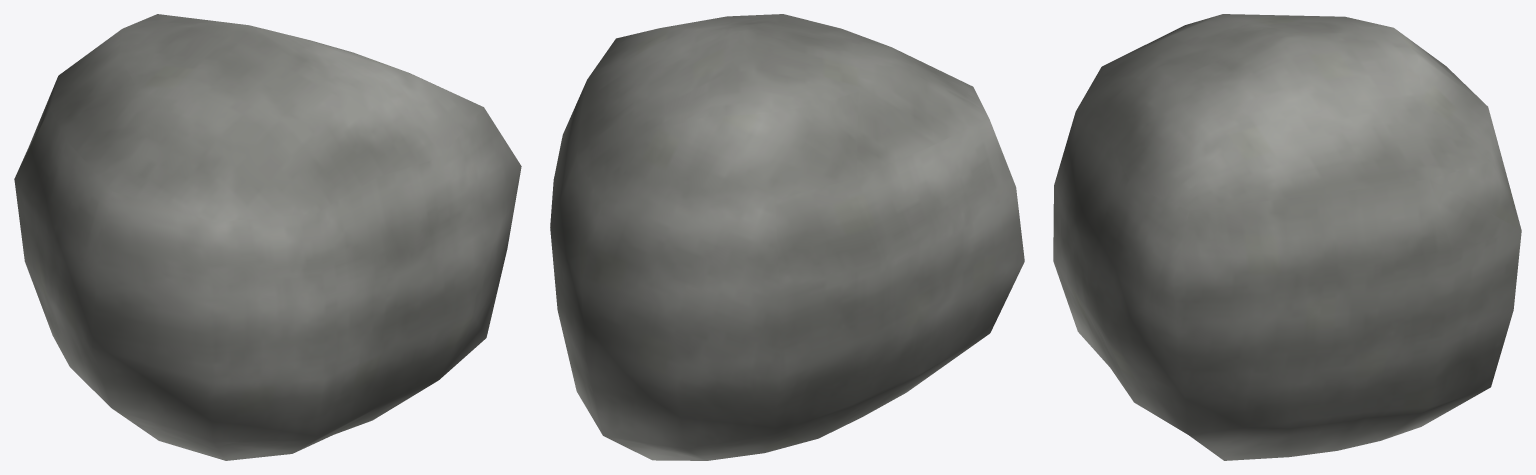
File: pebble_05.glb
3 views of the same model, side by side, from view 1: azimuth 30°, elevation 25°; view 2: azimuth 150°, elevation 25°; view 3: azimuth 270°, elevation 25° (orthographic). The views are drawn at different scales.
Parts seen in each view (by area): view 1: pebble_05; view 2: pebble_05; view 3: pebble_05.
Boxes of the visible parts, x1,y1,x2,y2 form: pebble_05: [14, 14, 521, 460]; pebble_05: [550, 14, 1024, 460]; pebble_05: [1053, 14, 1521, 460].
Size of the model in its own units: 2.06 by 1.78 by 2.
Materials: 1 (1 with a texture image).
